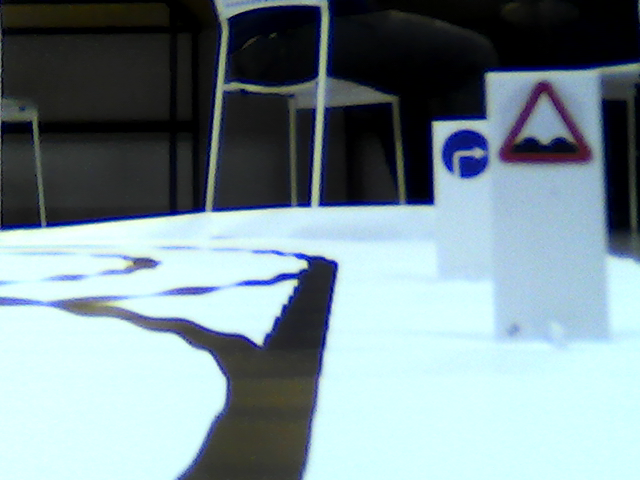Nerov: (500, 78, 595, 168)
Right: (438, 127, 490, 176)
